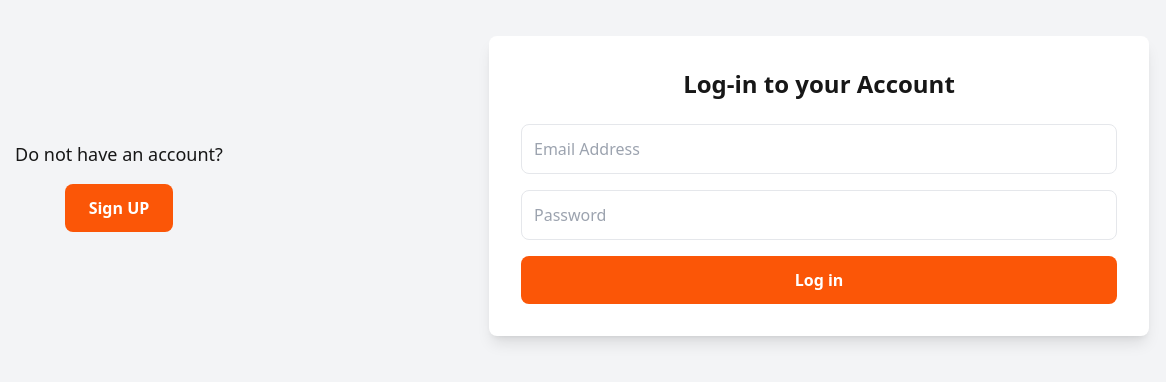
Scenario: Login Component › handles API error on login
The image size is (1166, 382).
Type "spiderman@gmail.com" into the field with placeholder "Email Address".
click(819, 149); type("spiderman@gmail.com")  # box x1=521 y1=124 x2=1117 y2=174
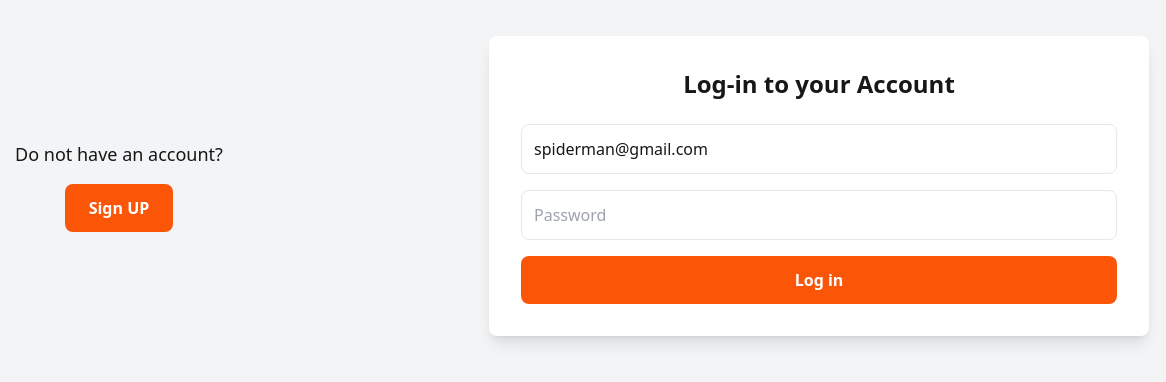
Type "dsasee@@sd" into the password field with placeholder "Password".
click(819, 215); type("dsasee@@sd")  # box x1=521 y1=190 x2=1117 y2=240
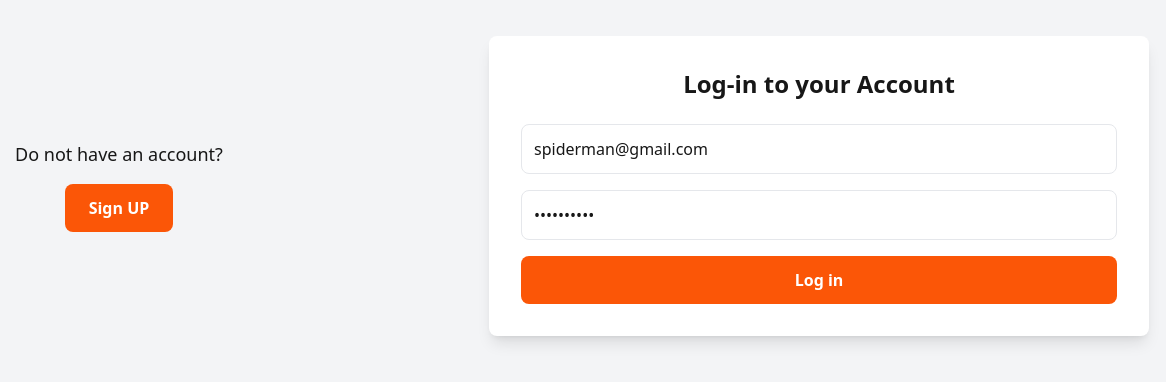
Click the button "Log in".
click(819, 280)  # box x1=521 y1=256 x2=1117 y2=304
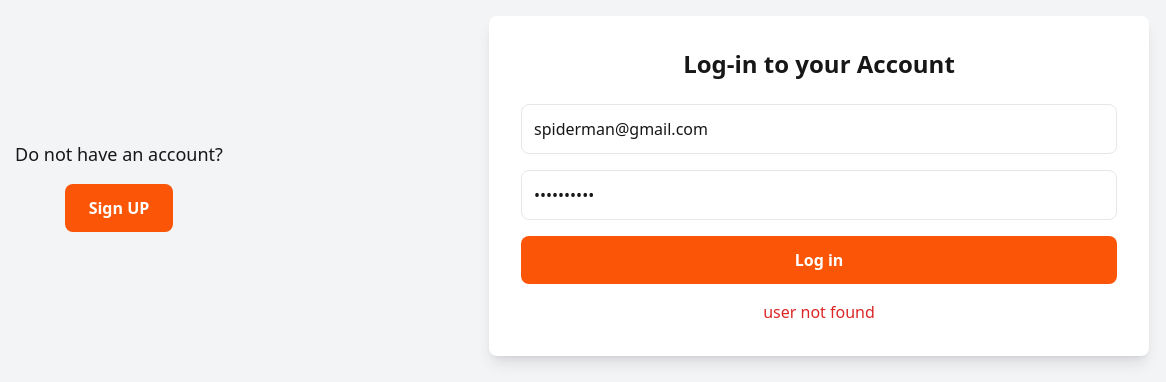
Result: the text "user not found" is shown at x1=763 y1=301 x2=875 y2=323
